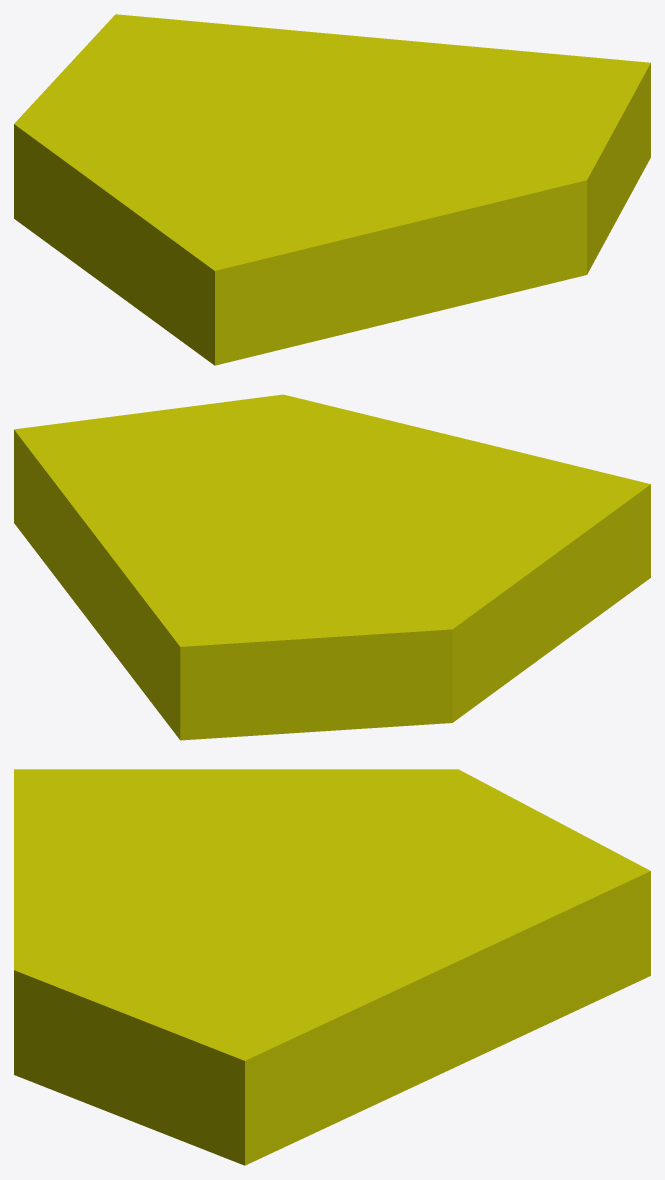
Rendered from x_proval_00_195_1_rmstrd.fbx.
3 views of the same model, one above another, from view 1: azimuth 30°, elevation 25°; view 2: azimuth 150°, elevation 25°; view 3: azimuth 270°, elevation 25° (orthographic). The views are drawn at different scales.
Parts seen in each view (by area): view 1: x_proval_00_195_1_rmstrd1; view 2: x_proval_00_195_1_rmstrd1; view 3: x_proval_00_195_1_rmstrd1.
Part boxes in pixels (x1,y1,x2,y2): x_proval_00_195_1_rmstrd1: (14, 14, 650, 365); x_proval_00_195_1_rmstrd1: (14, 394, 650, 740); x_proval_00_195_1_rmstrd1: (14, 769, 650, 1165).
Size of the model in its own units: 1.19 by 0.2 by 1.1.
